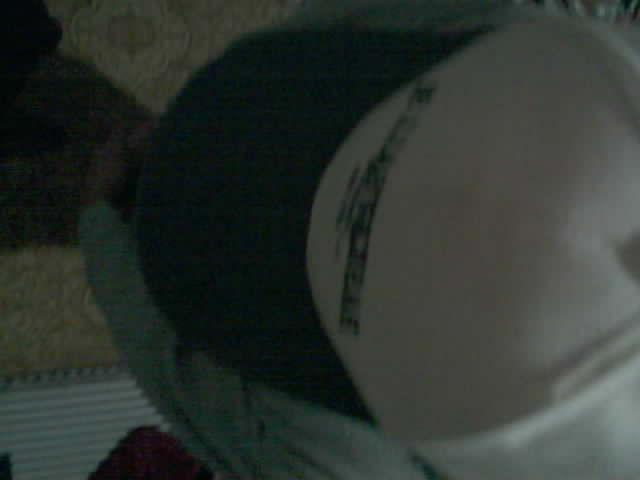cap: (129, 5, 639, 455)
